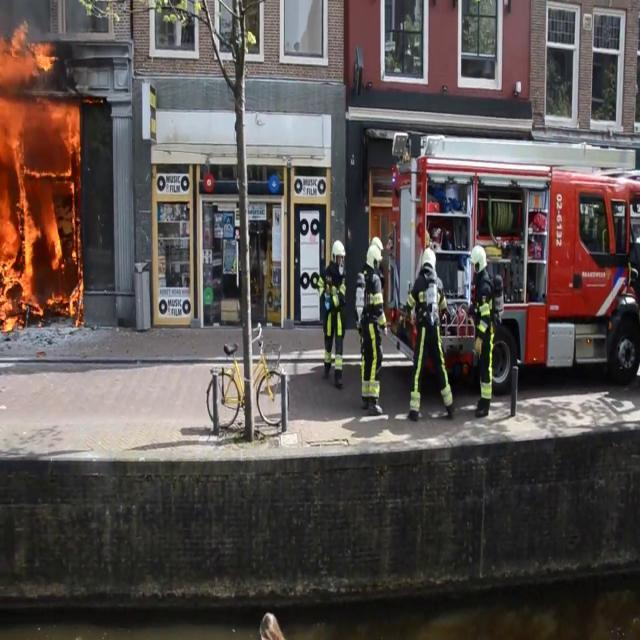Fire: (0, 12, 86, 336)
